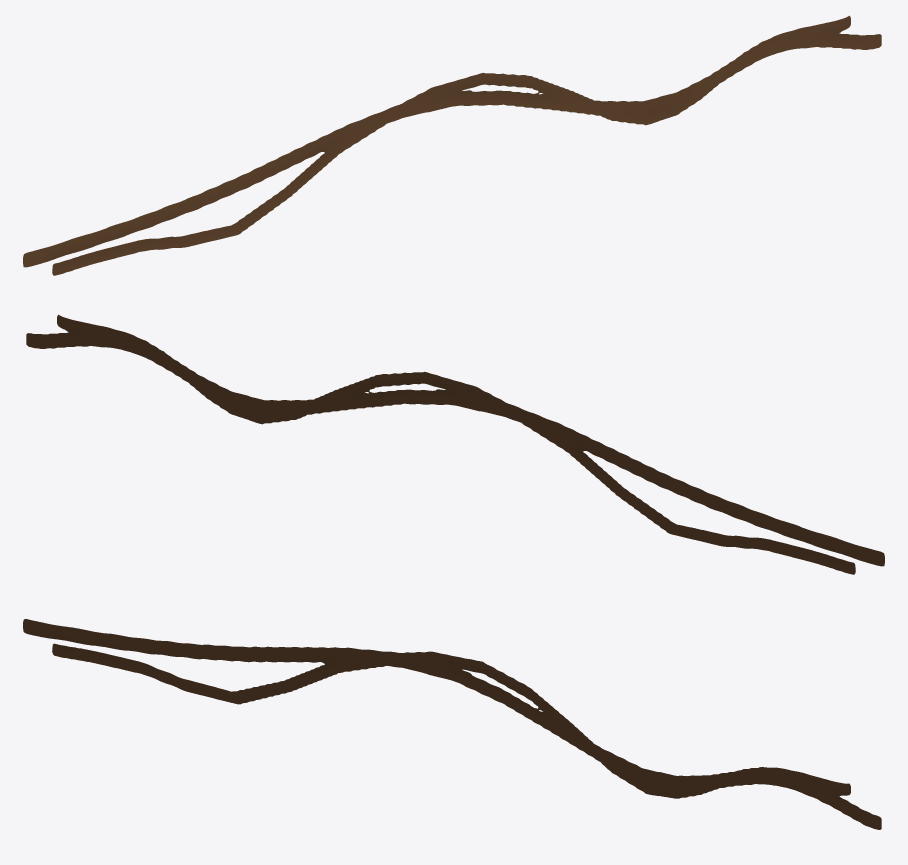
File: Vine04.fbx
3 renders of one model, top to bottom at view 1: azimuth 30°, elevation 25°; view 2: azimuth 150°, elevation 25°; view 3: azimuth 330°, elevation 25°, orthographic.
Parts seen in each view (by area): view 1: Vine.006; view 2: Vine.006; view 3: Vine.006.
Part boxes in pixels (x1,y1,x2,y2): Vine.006: (23,15,881,275); Vine.006: (26,314,884,574); Vine.006: (23,619,881,829).
Bounding box in the file's own units: 514 × 79.42 × 2.41e-05.
1 material, 1 textured.
